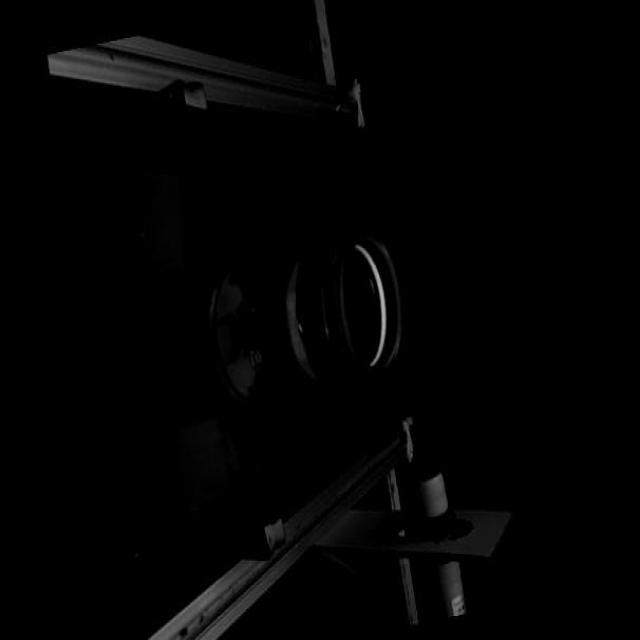defect: (294, 316, 308, 344)
glass: (195, 215, 412, 422)
